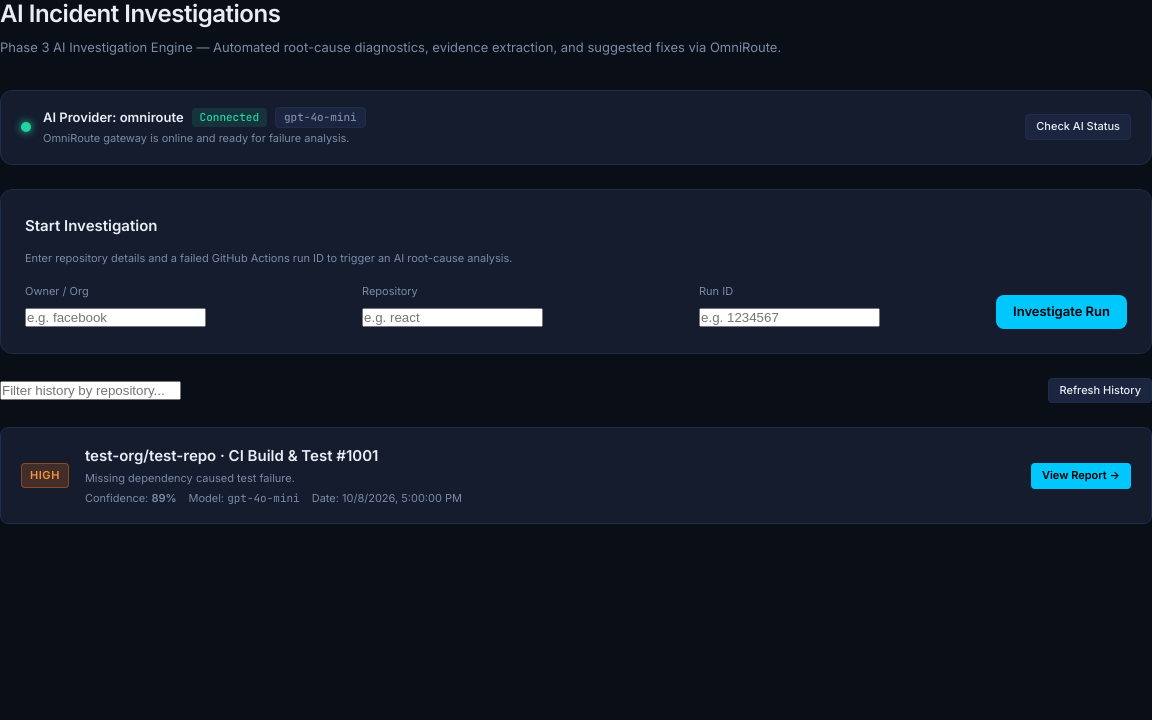
Investigations Page Tests › renders historical investigations list and opens detail on click
Expected: the text "test-org/test-repo · CI Build & Test #1001" is shown, [85,446,378,465]
# Click to view detailed report
Click the button "View Report →": point(1081, 476) [1031,464,1131,489]
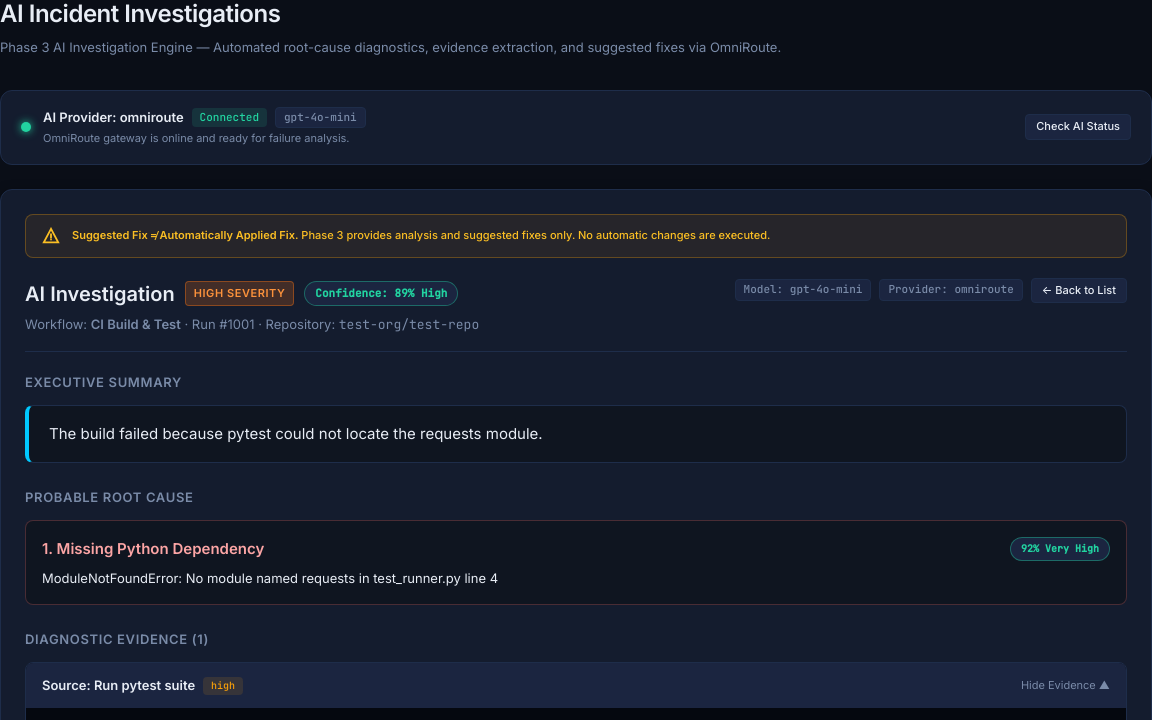
Expected: the text "The build failed because pytest could not locate the requests module." is shown, [25,405,1127,463]
Expected: the button "← Back to List" is shown, [1031,278,1127,303]
